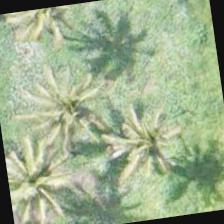Kelapa_Sawit: (99, 86, 201, 188), (16, 53, 118, 155), (3, 131, 79, 223), (0, 3, 88, 65)
